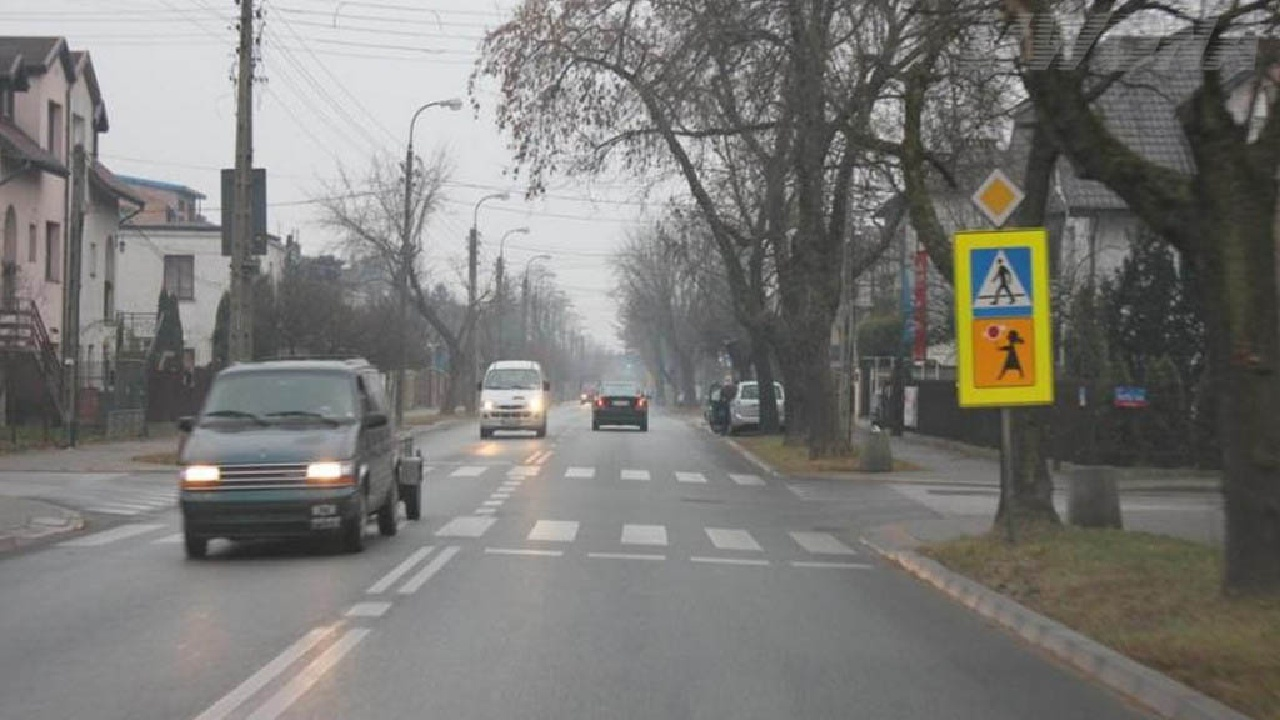D1: (971, 167, 1026, 229)
D6: (971, 248, 1034, 318)
